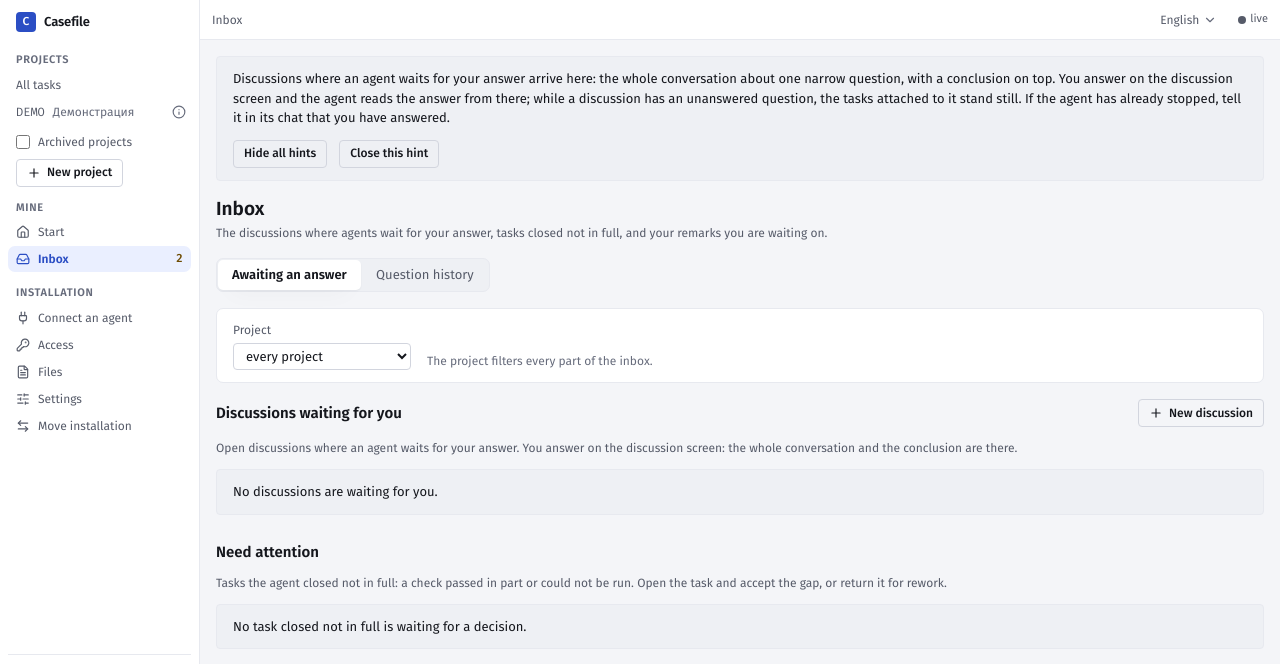
Test case: пояснение экрана (TRK-362) › закрытие пояснения шлёт PATCH с прежними ключами и «questions», и оно пропадает из содержимого
Check: the text "Discussions where an agent waits for your answer arrive here: the whole conversation about one narrow question, with a c" is shown, box left=233, top=71, right=1241, bottom=125
Click the button "Close this hint". click: (389, 154)
box: left=339, top=140, right=439, bottom=168
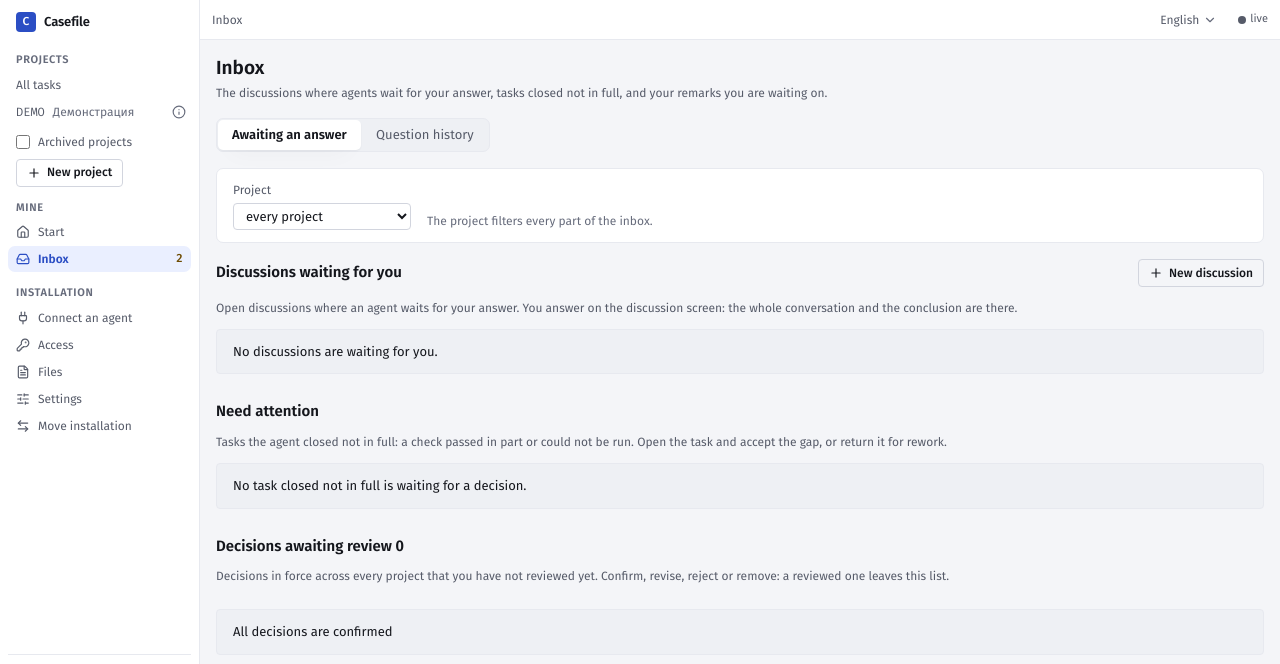
Check: the text "Discussions where an agent waits for your answer arrive here: the whole conversation about one narrow question, with a c" is gone
